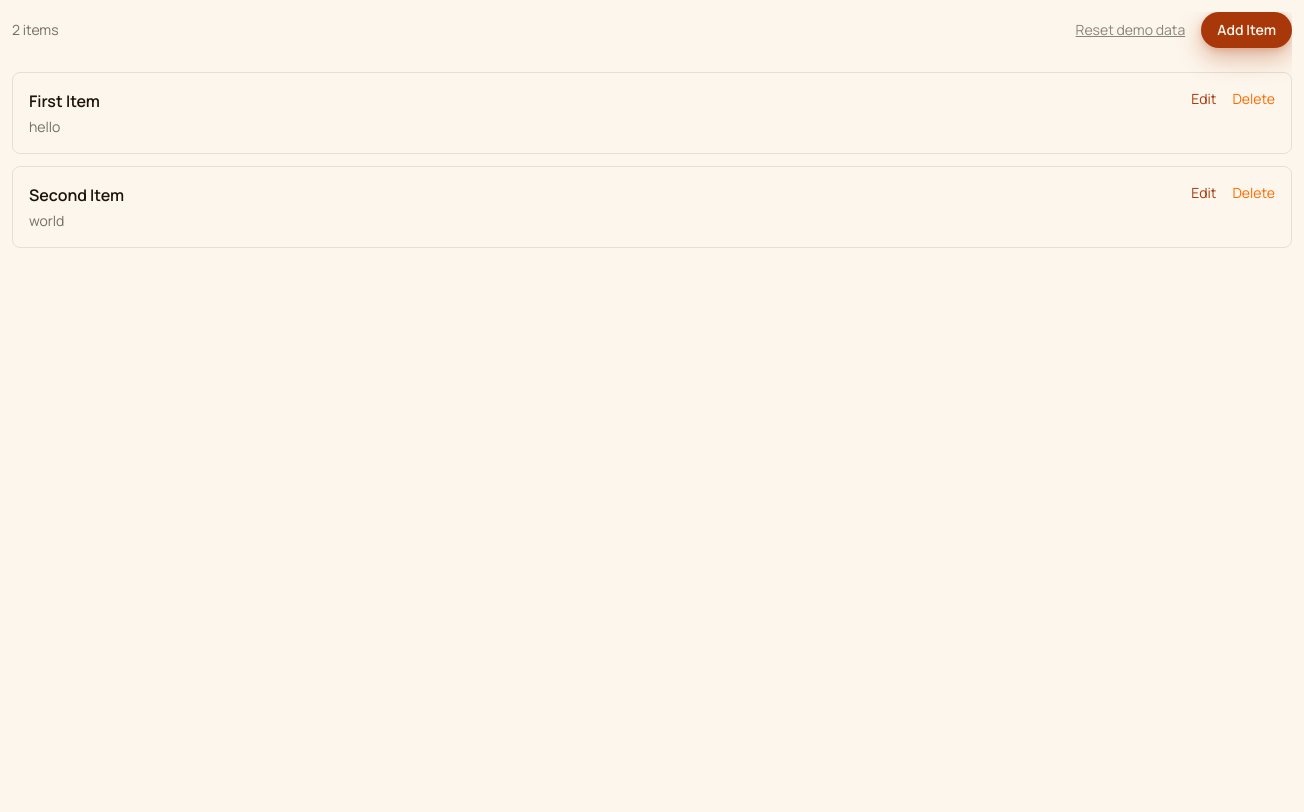
it: ResourceManager › rejects a new item missing a required field
The image size is (1304, 812).
Click the button "Add Item" at [1247, 30], box [1201,12,1292,48]
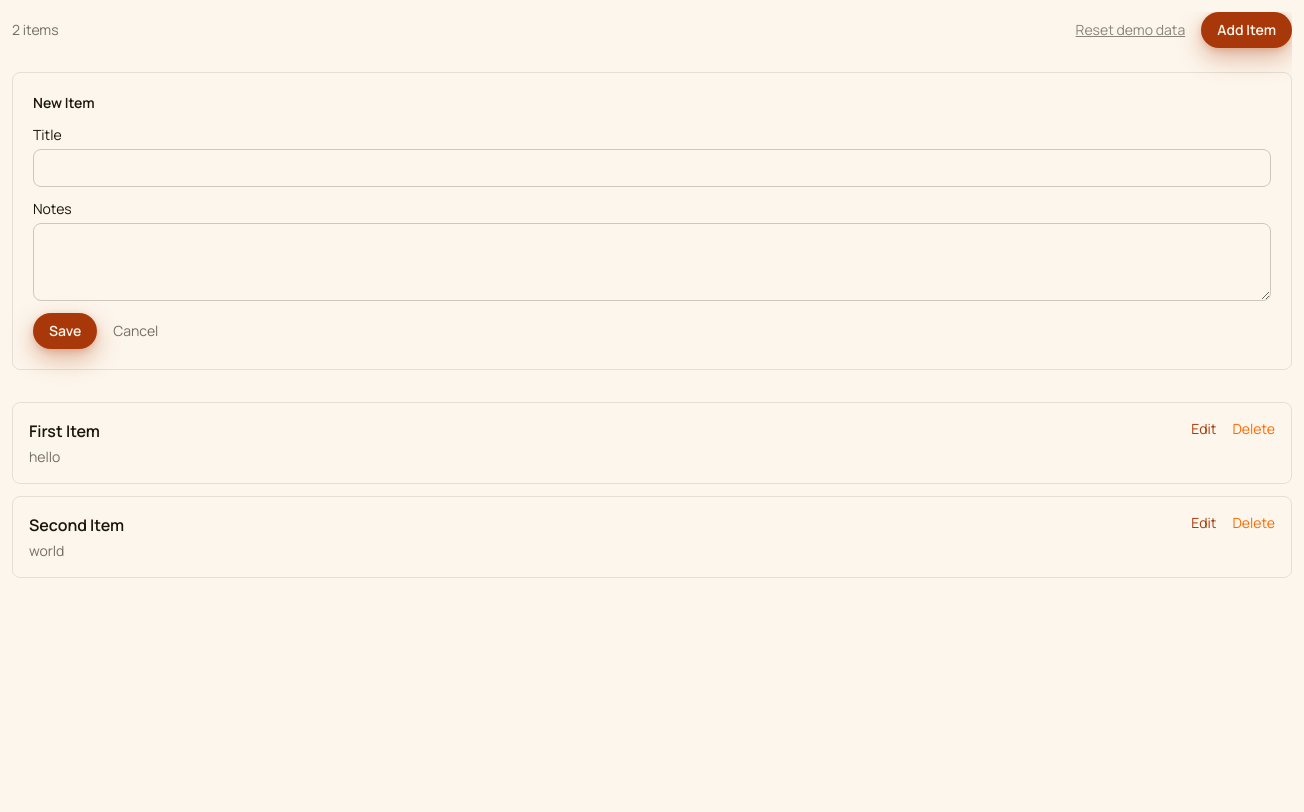
Click the button "Save" at [65, 331], box [33,313,97,349]
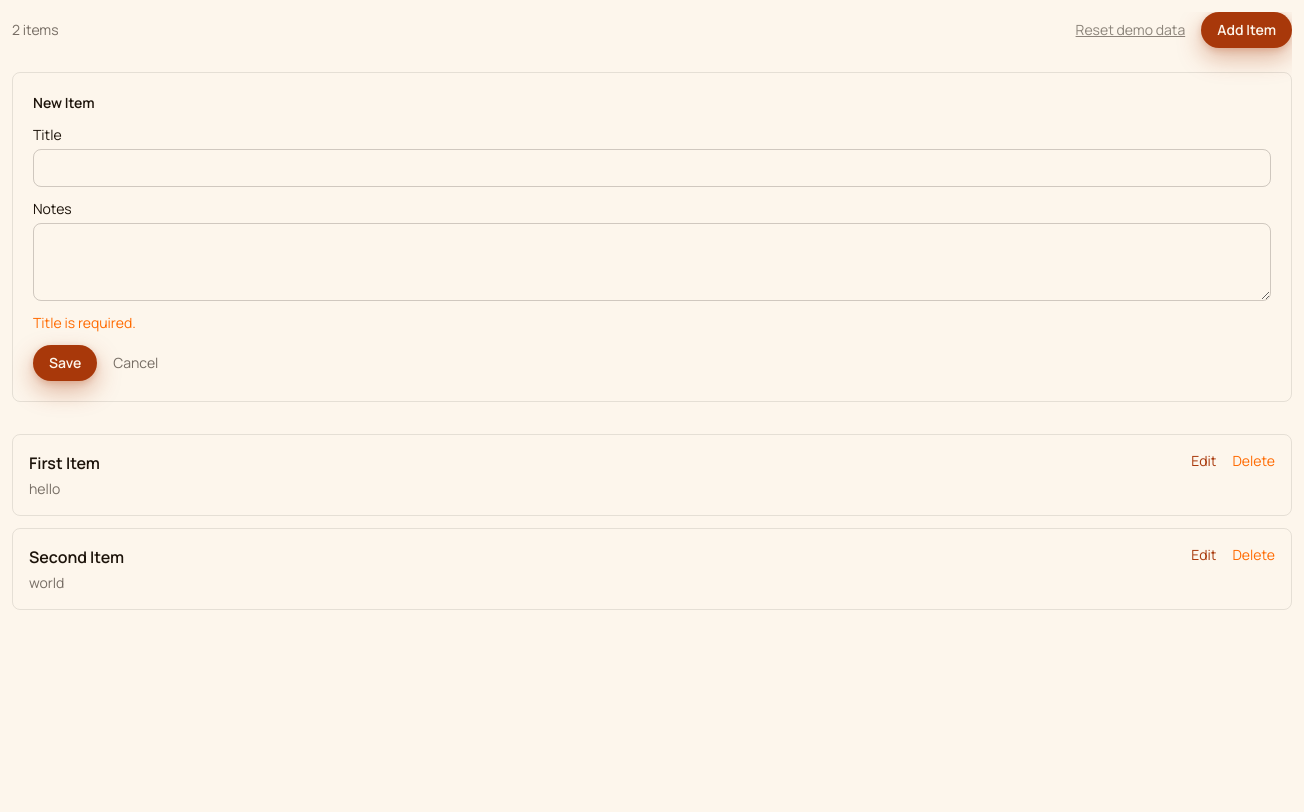
Expected: the text "2 items" is shown, [12,20,59,40]
Expected: the text "Title is required." is shown, [33,313,136,332]
